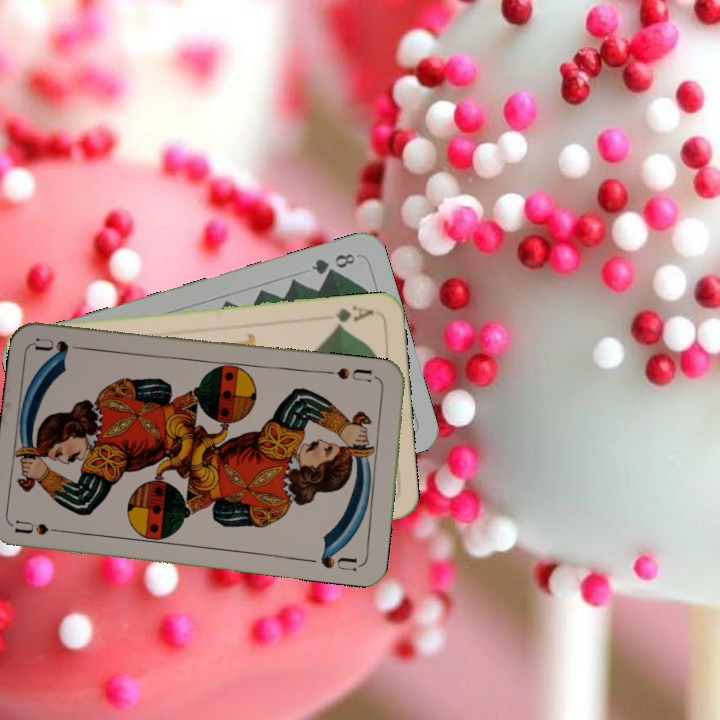G8: (307, 249, 358, 277)
GA: (331, 301, 376, 330)
SU: (13, 516, 72, 537), (333, 363, 382, 385)
